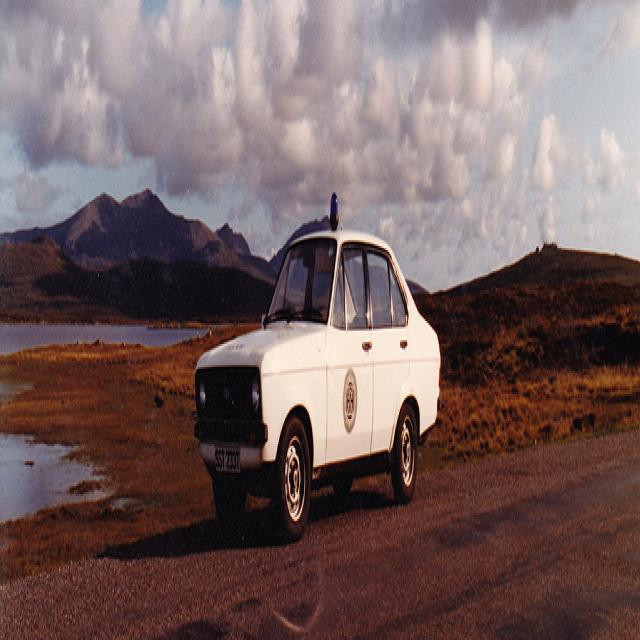car: (193, 194, 442, 538)
